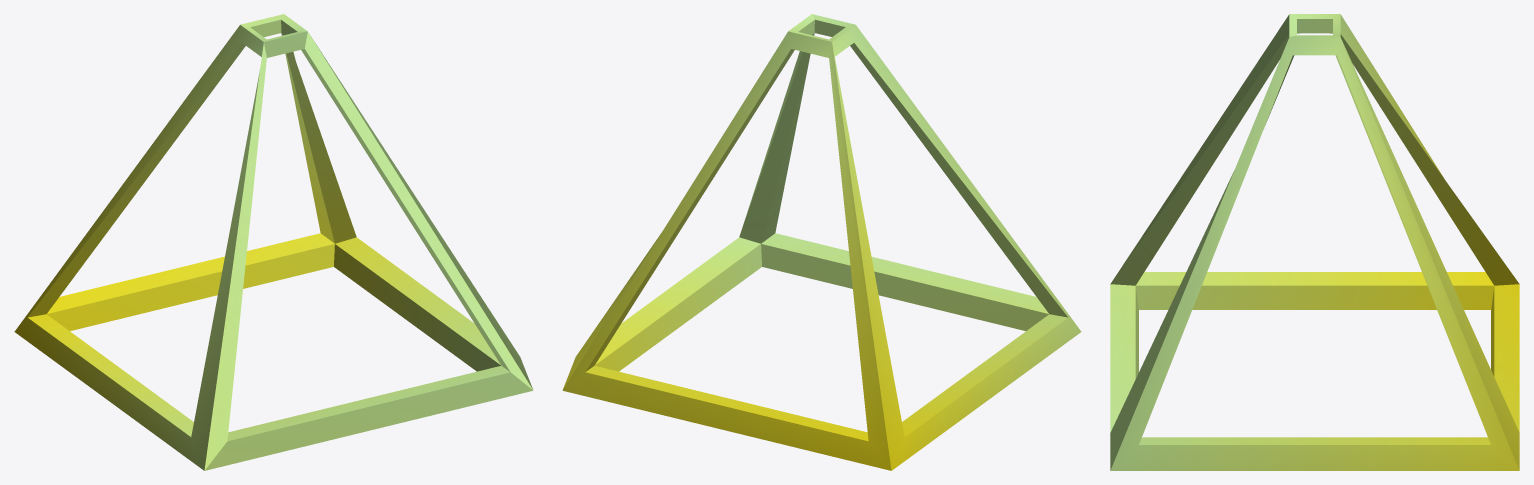
File: POL0110029.fbx
3 views of the same model, side by side, from view 1: azimuth 30°, elevation 25°; view 2: azimuth 150°, elevation 25°; view 3: azimuth 270°, elevation 25° (orthographic). The views are drawn at different scales.
Parts seen in each view (by area): view 1: smPOL0110029; view 2: smPOL0110029; view 3: smPOL0110029.
Boxes of the visible parts, x1=… form: smPOL0110029: x1=14, y1=14, x2=533, y2=470; smPOL0110029: x1=562, y1=14, x2=1081, y2=470; smPOL0110029: x1=1110, y1=14, x2=1519, y2=470.
Bounding box in the file's own units: 268 × 259 × 268.
Materials: 1 (1 with a texture image).
